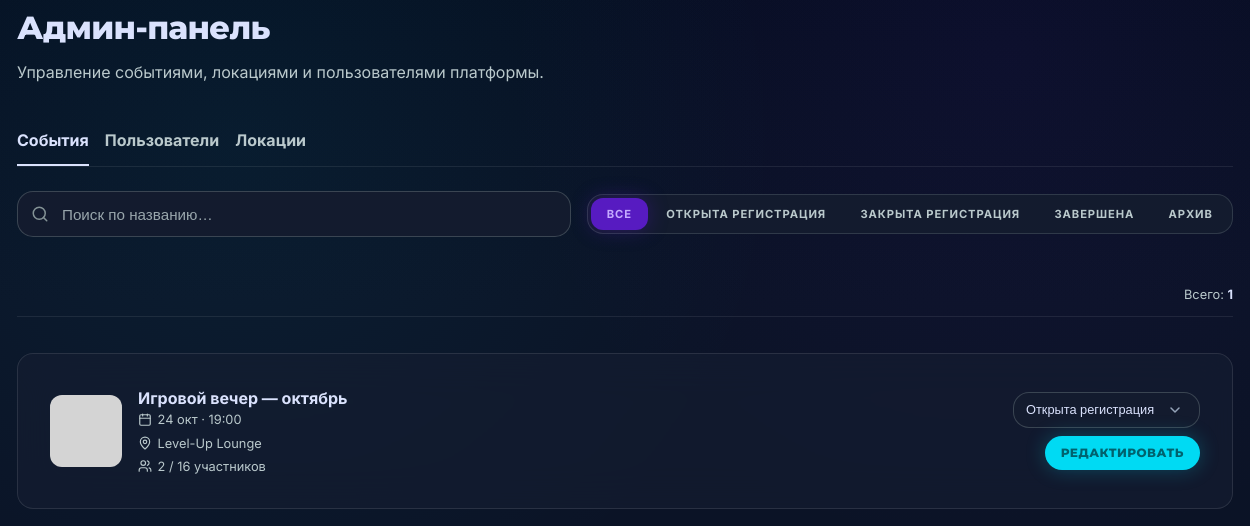
Scenario: AdminPage › shows empty state when events search has no matches
Expected: the button "Игровой вечер — октябрь" is shown, [138,386,347,410]
Type "несуществующая встреча" into the field named "Поиск событий" at (294, 214), box [17,191,571,237]
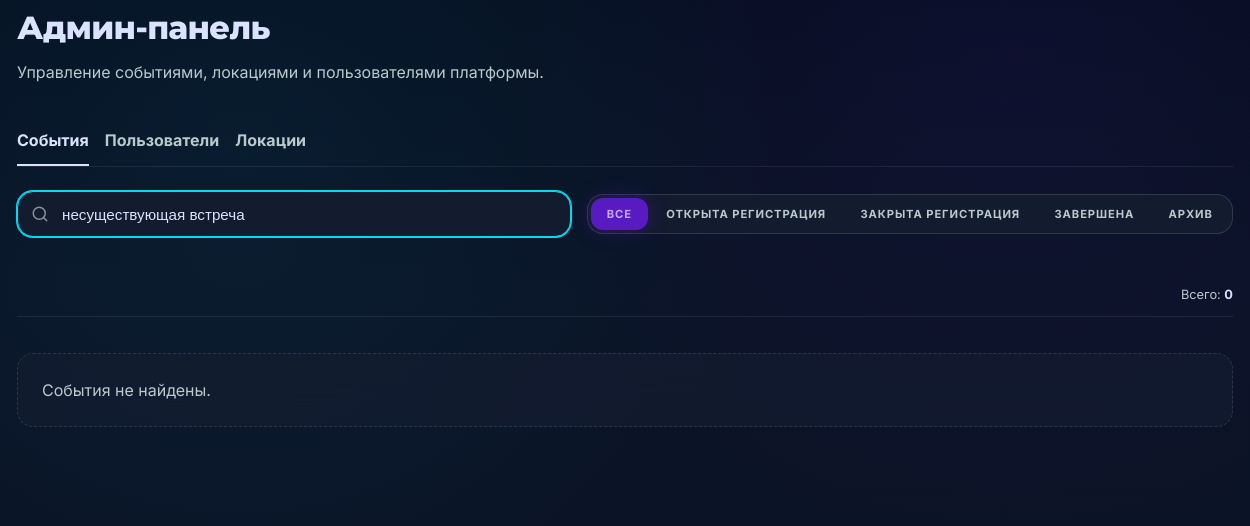
Expected: the text "Всего:" is shown, [1181,287,1224,302]
Result: the text "События не найдены." is shown at [42,380,211,400]
